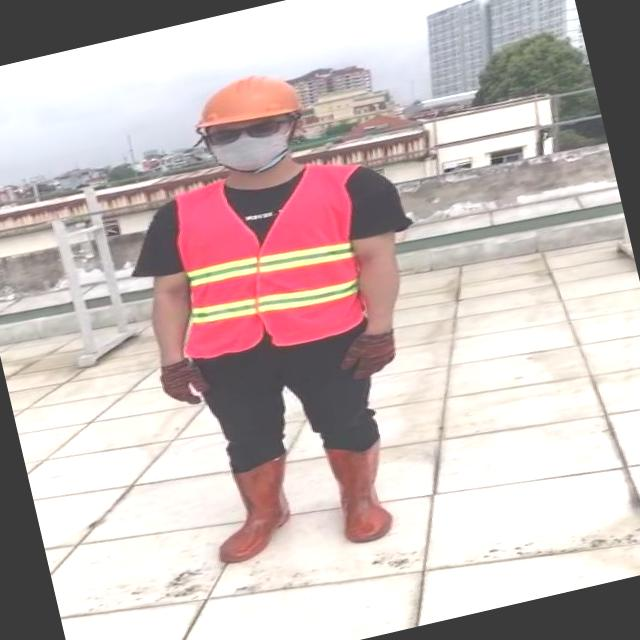boots: (198, 452, 306, 565), (322, 435, 400, 545)
helmet: (179, 61, 310, 142)
vest: (156, 157, 382, 366)
